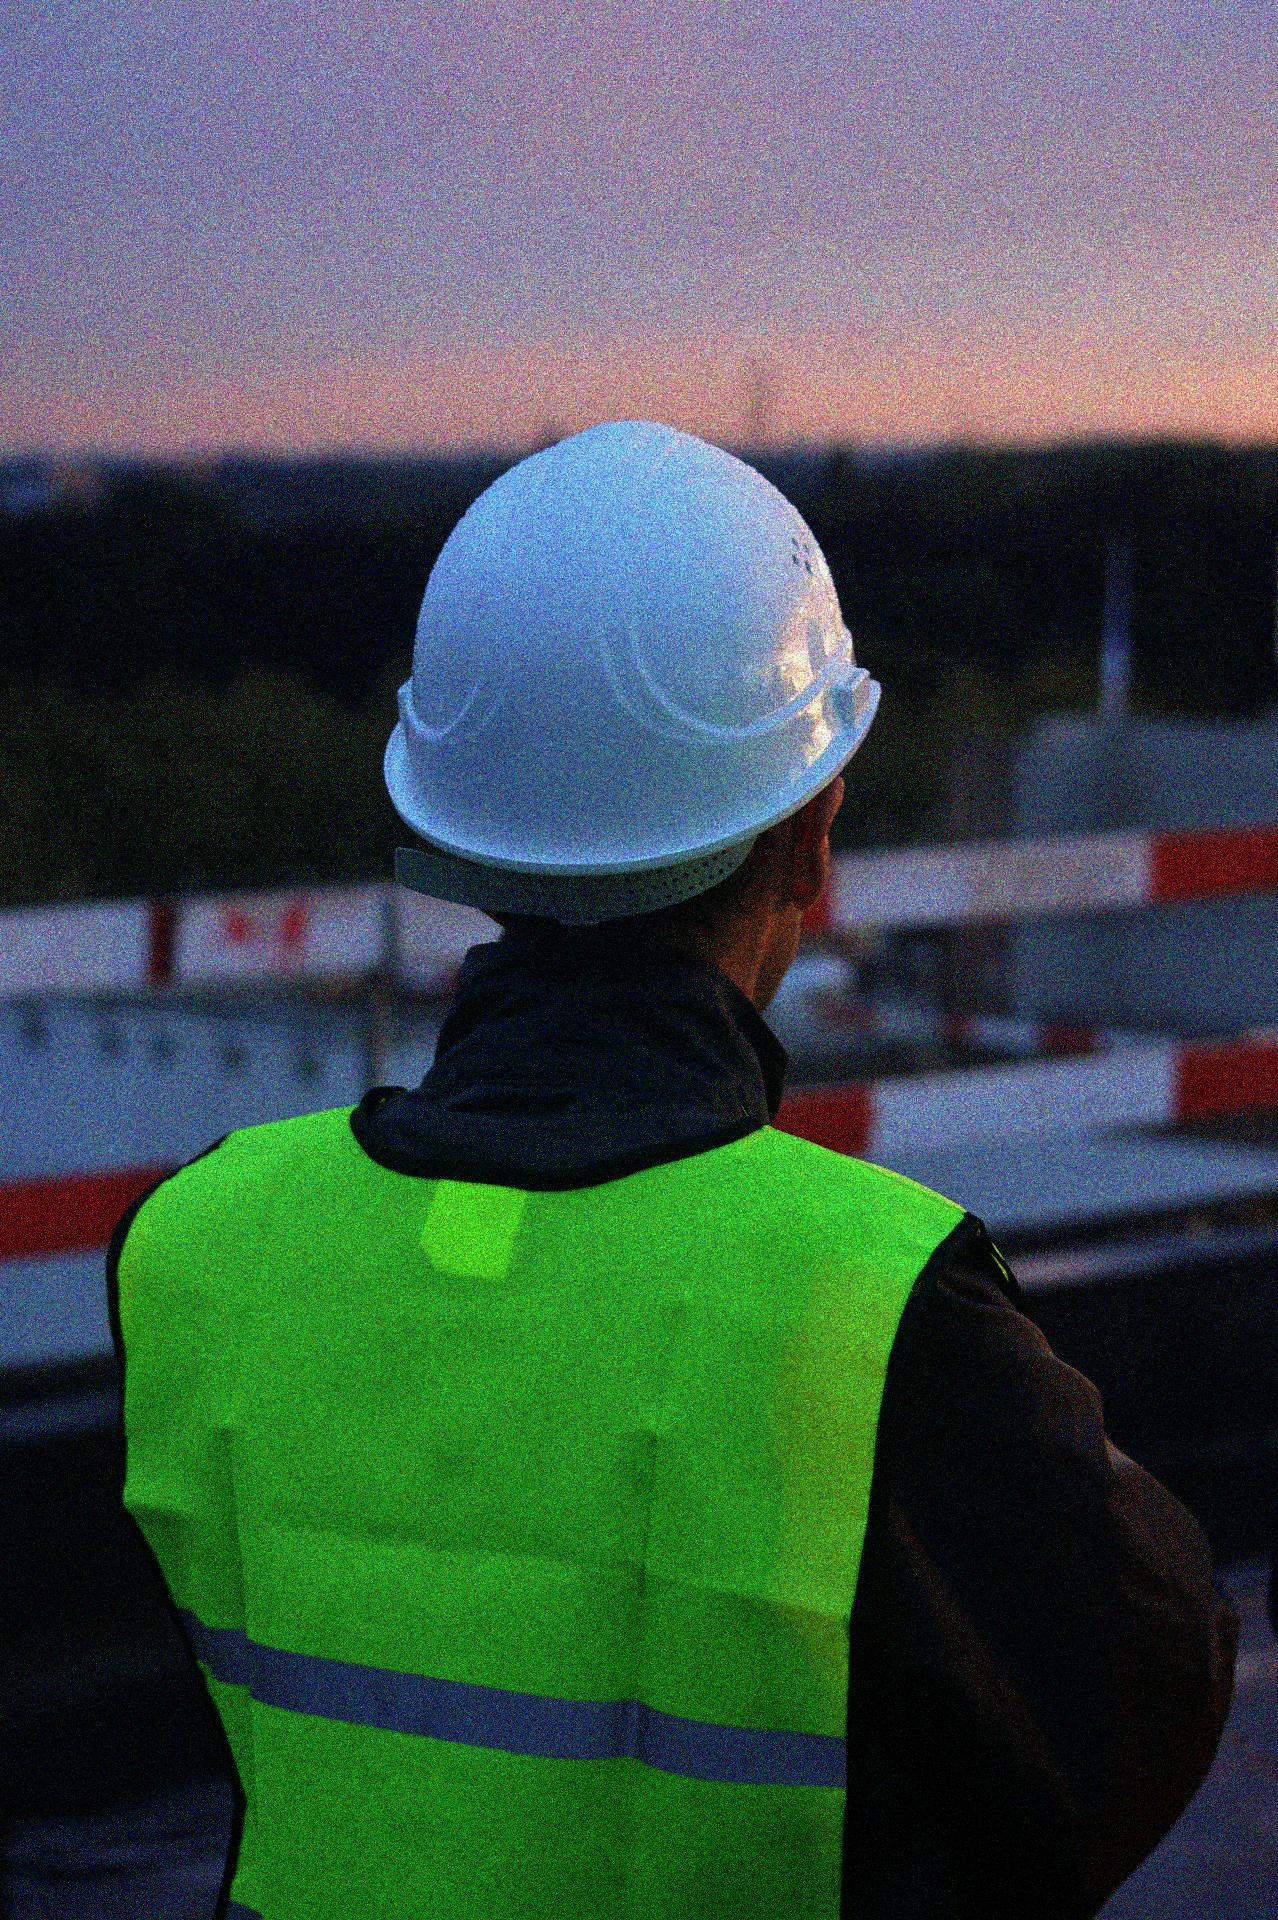helmet: (378, 414, 886, 1007)
